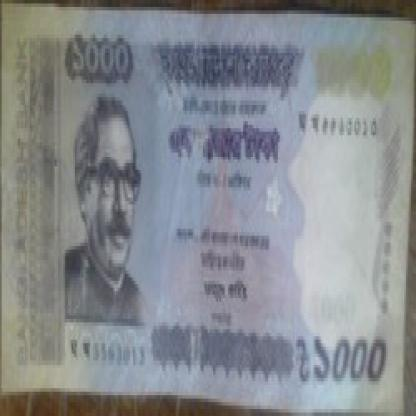One Thousand taka: (294, 330, 392, 395), (64, 31, 136, 83)
